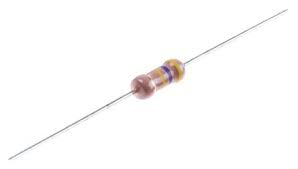resistor: (124, 40, 199, 118)
